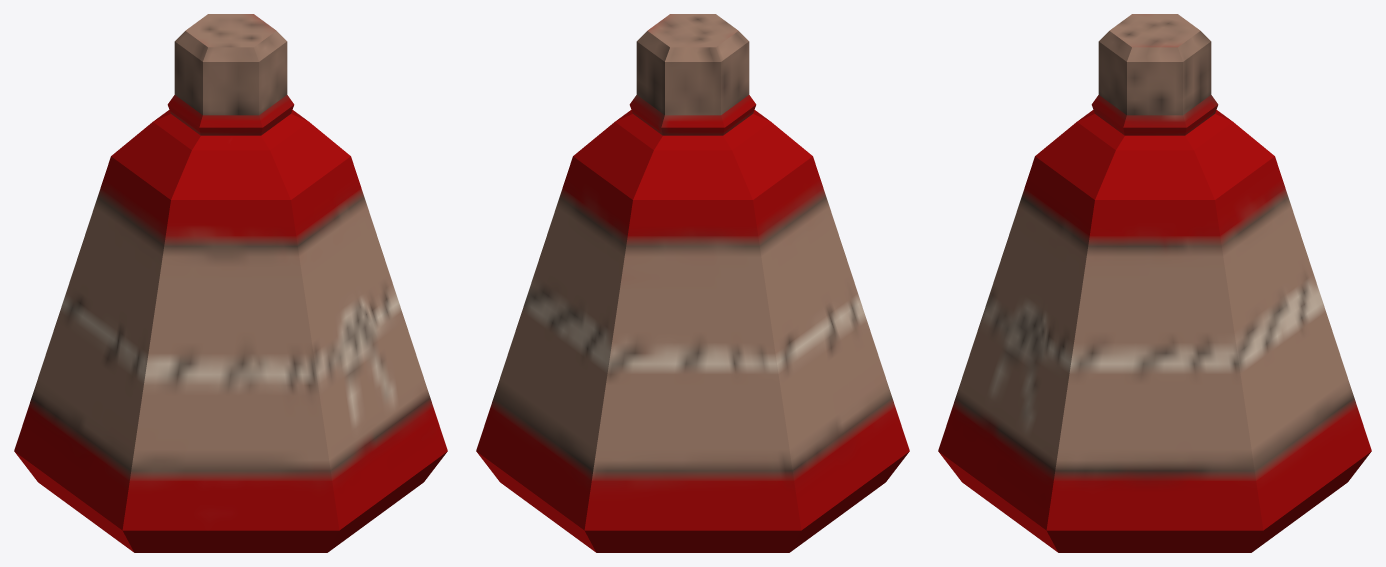
File: potion1.fbx
3 renders of one model, left to right at view 1: azimuth 30°, elevation 25°; view 2: azimuth 150°, elevation 25°; view 3: azimuth 270°, elevation 25°, orthographic.
Visible parts, largest first — view 1: Cylinder; view 2: Cylinder; view 3: Cylinder.
Boxes of the visible parts, bbox=[...] form: Cylinder: bbox=[14, 14, 447, 552]; Cylinder: bbox=[476, 14, 909, 552]; Cylinder: bbox=[938, 14, 1371, 552].
Size of the model in its own units: 17.32 by 22.97 by 20.
